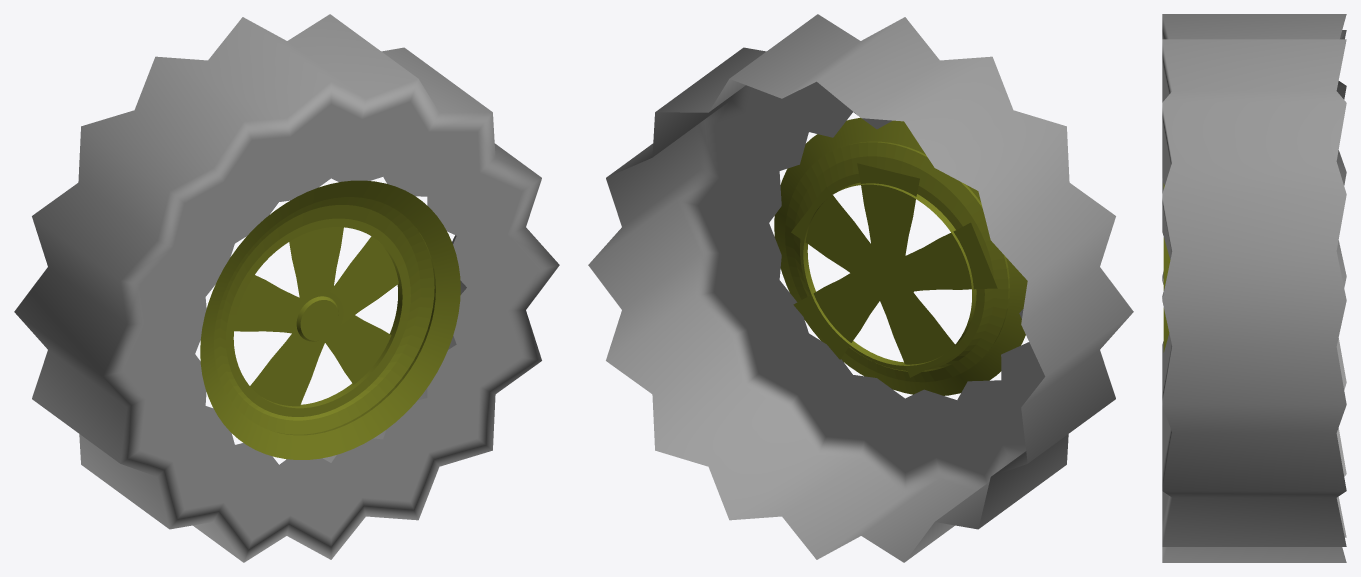
The model's file is tire.fbx.
The picture shows the model from 3 angles, left to right: view 1: azimuth 30°, elevation 25°; view 2: azimuth 150°, elevation 25°; view 3: azimuth 270°, elevation 25°; orthographic projection. The views are drawn at different scales.
Parts seen in each view (by area): view 1: polySurface12; view 2: polySurface12; view 3: polySurface12.
Boxes of the visible parts, box(x1,y1,x2,y2) form: polySurface12: box(14, 14, 559, 562); polySurface12: box(588, 14, 1133, 562); polySurface12: box(1162, 14, 1346, 562).
Bounding box in the file's own units: 1.88e-05 × 1.88e-05 × 6.3e-06.
